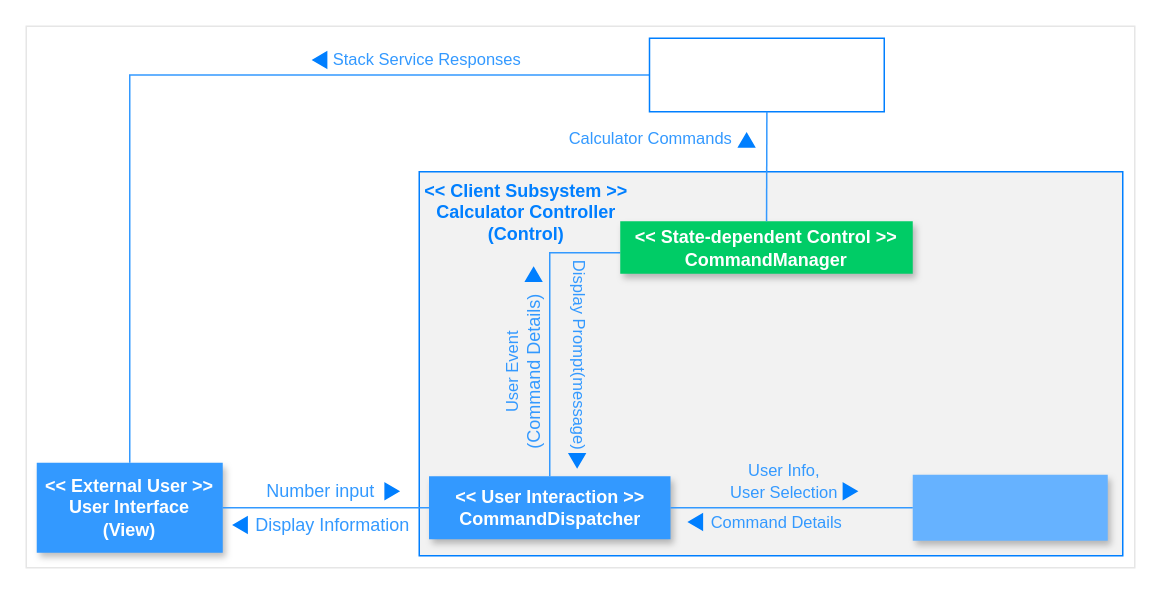
Some shapes in this 1161 by 594 pixel diagram are drawn without their labels. Here are the shapes that lost their labels. From the top down, the centre of each, then its label:
the point at 766,74: << Server Subsystem >> Stack Service (Model)
the point at 1011,509: << Entity >> CommandRepository
